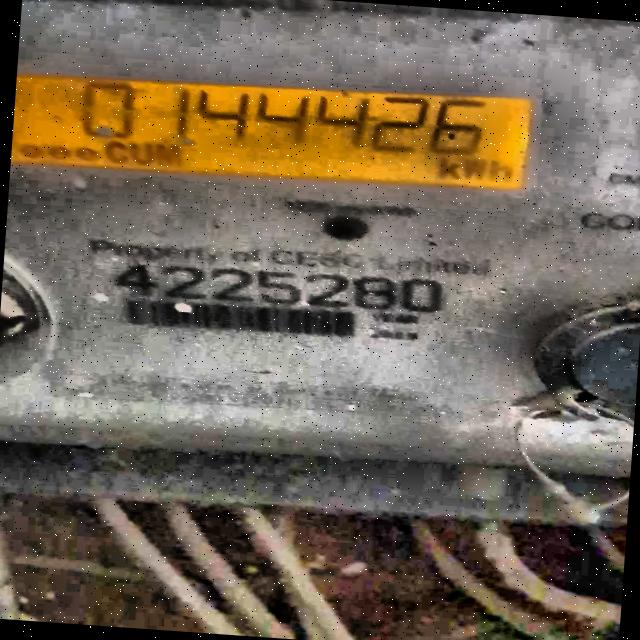Reading: (66, 73, 504, 159)
Serial No.: (104, 258, 452, 316)
